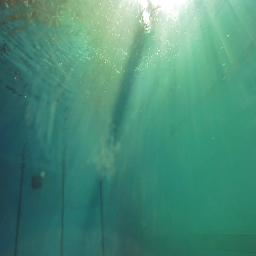Full: (30, 175, 43, 190)
